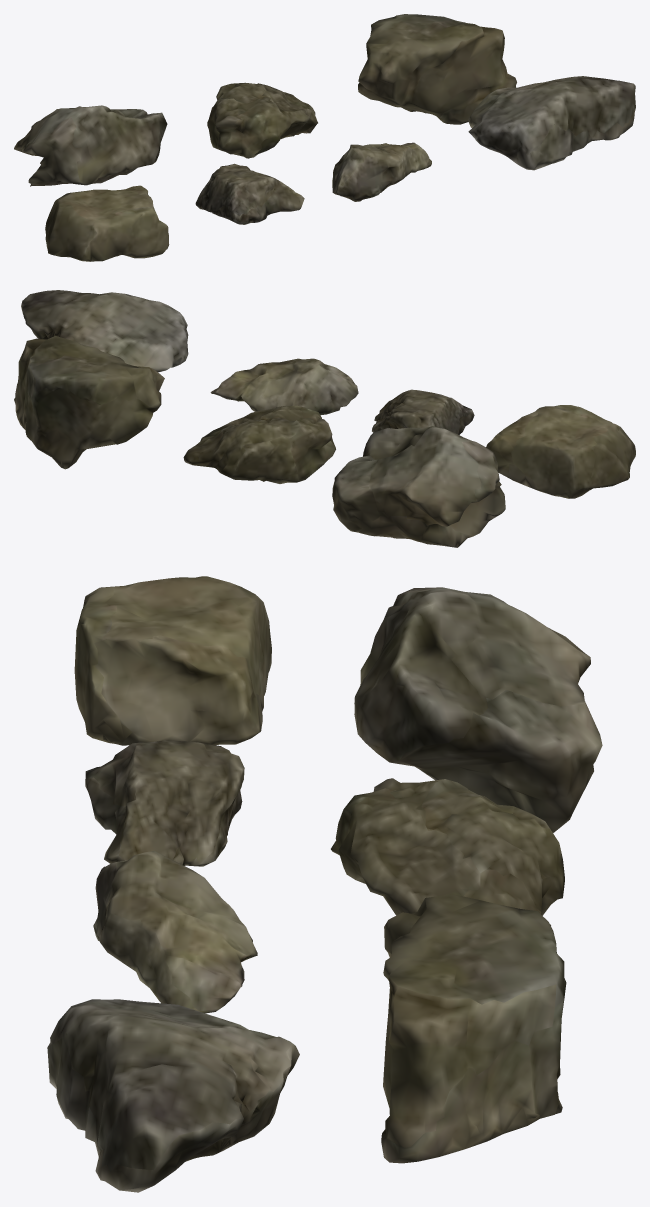
Rendered from rock_moss_set_02_lod1.glb.
3 renders of one model, top to bottom at view 1: azimuth 30°, elevation 25°; view 2: azimuth 150°, elevation 25°; view 3: azimuth 270°, elevation 25°, orthographic. The views are drawn at different scales.
Parts seen in each view (by area): view 1: rock_moss_set_02_rock13, rock_moss_set_02_rock10, rock_moss_set_02_rock11, rock_moss_set_02_rock07, rock_moss_set_02_rock12, rock_moss_set_02_rock08, rock_moss_set_02_rock09; view 2: rock_moss_set_02_rock11, rock_moss_set_02_rock13, rock_moss_set_02_rock07, rock_moss_set_02_rock10, rock_moss_set_02_rock12, rock_moss_set_02_rock09, rock_moss_set_02_rock08; view 3: rock_moss_set_02_rock13, rock_moss_set_02_rock11, rock_moss_set_02_rock10, rock_moss_set_02_rock07, rock_moss_set_02_rock12, rock_moss_set_02_rock09, rock_moss_set_02_rock08.
Boxes of the visible parts, box(x1,y1,x2,y2) form: rock_moss_set_02_rock13: box(358, 14, 516, 124); rock_moss_set_02_rock10: box(468, 76, 635, 170); rock_moss_set_02_rock11: box(14, 105, 167, 186); rock_moss_set_02_rock07: box(45, 185, 169, 261); rock_moss_set_02_rock12: box(207, 82, 317, 158); rock_moss_set_02_rock08: box(195, 163, 304, 224); rock_moss_set_02_rock09: box(332, 142, 431, 201); rock_moss_set_02_rock11: box(332, 426, 505, 547); rock_moss_set_02_rock13: box(14, 336, 164, 469); rock_moss_set_02_rock07: box(486, 405, 635, 498); rock_moss_set_02_rock10: box(21, 290, 188, 372); rock_moss_set_02_rock12: box(183, 405, 335, 483); rock_moss_set_02_rock09: box(210, 358, 358, 415); rock_moss_set_02_rock08: box(372, 389, 474, 434); rock_moss_set_02_rock13: box(381, 894, 566, 1163); rock_moss_set_02_rock11: box(354, 587, 602, 832); rock_moss_set_02_rock10: box(47, 999, 299, 1192); rock_moss_set_02_rock07: box(74, 576, 271, 745); rock_moss_set_02_rock12: box(331, 778, 564, 925); rock_moss_set_02_rock09: box(93, 851, 257, 1013); rock_moss_set_02_rock08: box(85, 740, 244, 866).
Bounding box in the file's own units: 8.28 × 1.37 × 3.41.
1 material, 1 textured.
